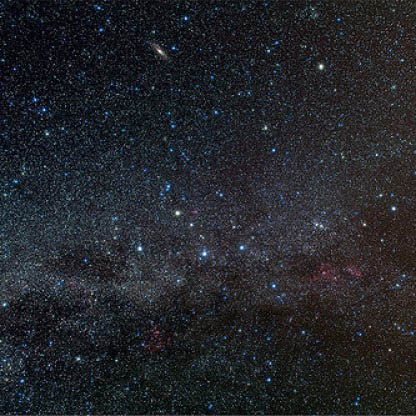Cassiopeia: (173, 205, 197, 231), (233, 237, 255, 262), (128, 240, 149, 261), (195, 243, 215, 264), (264, 278, 282, 296)
